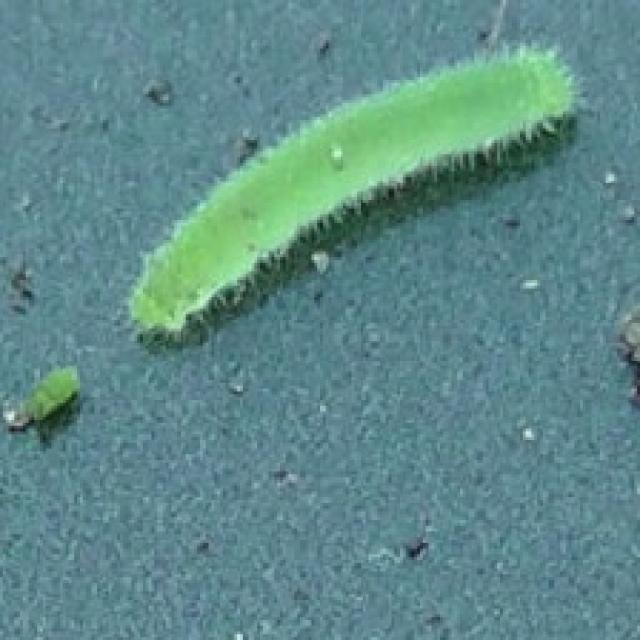Cabbage-worm: (114, 38, 580, 363)
